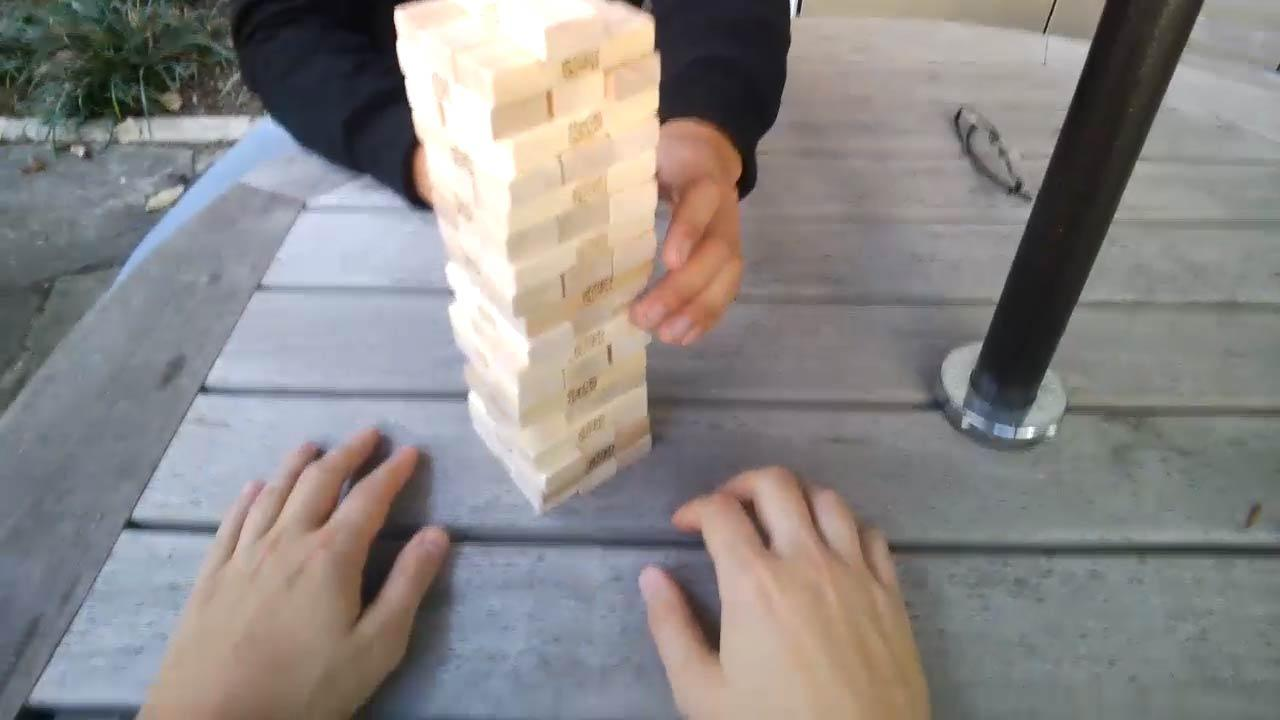hand: (147, 422, 459, 720), (631, 459, 949, 720), (658, 121, 751, 365)
